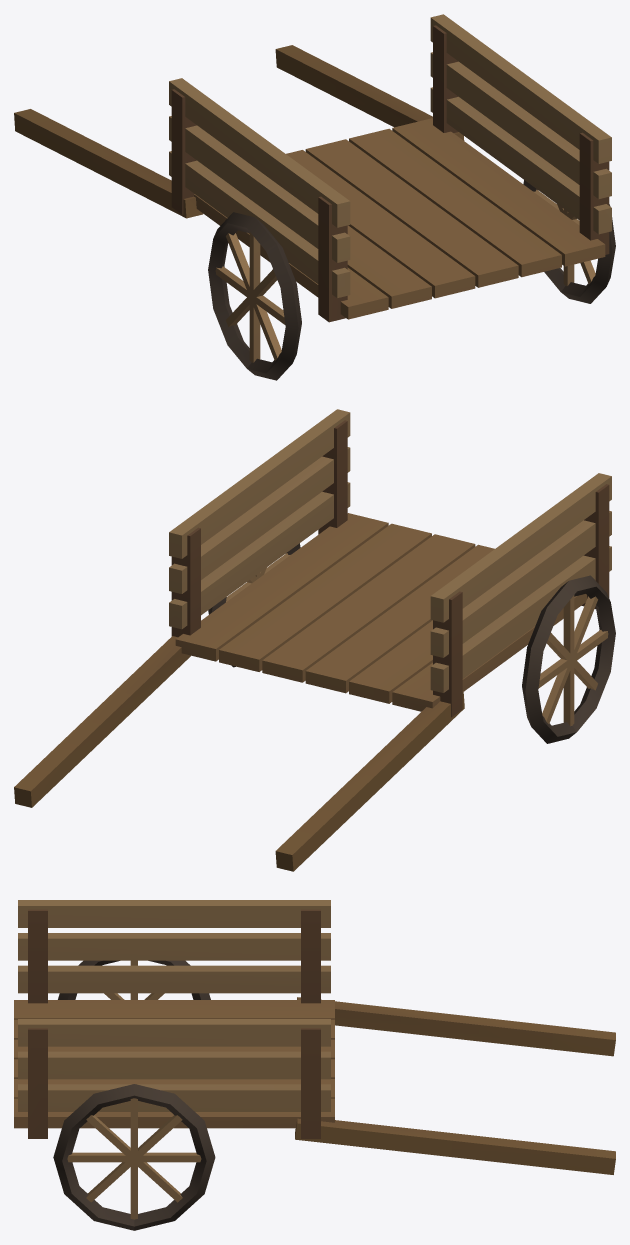
Rendered from AV_Cart.glb.
3 views of the same model, one above another, from view 1: azimuth 30°, elevation 25°; view 2: azimuth 150°, elevation 25°; view 3: azimuth 270°, elevation 25° (orthographic). The views are drawn at different scales.
Parts seen in each view (by area): view 1: AV_Cart__Body; view 2: AV_Cart__Body; view 3: AV_Cart__Body.
Part boxes in pixels (<box>): AV_Cart__Body: <box>14,14,615,380</box>; AV_Cart__Body: <box>14,409,615,871</box>; AV_Cart__Body: <box>14,900,615,1230</box>.
Size of the model in its own units: 8.84 by 5.42 by 15.
